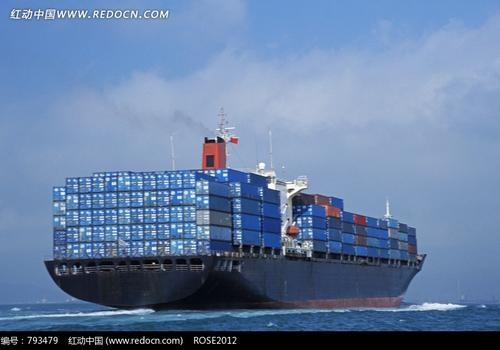Cargoship: (41, 112, 429, 307)
